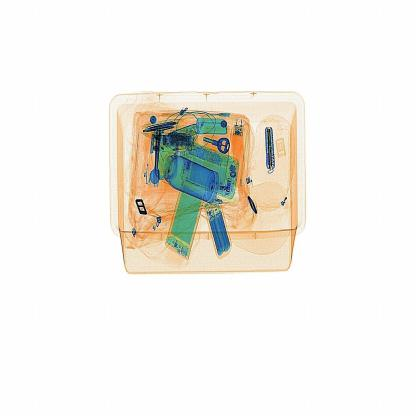scissors: (262, 123, 276, 173)
